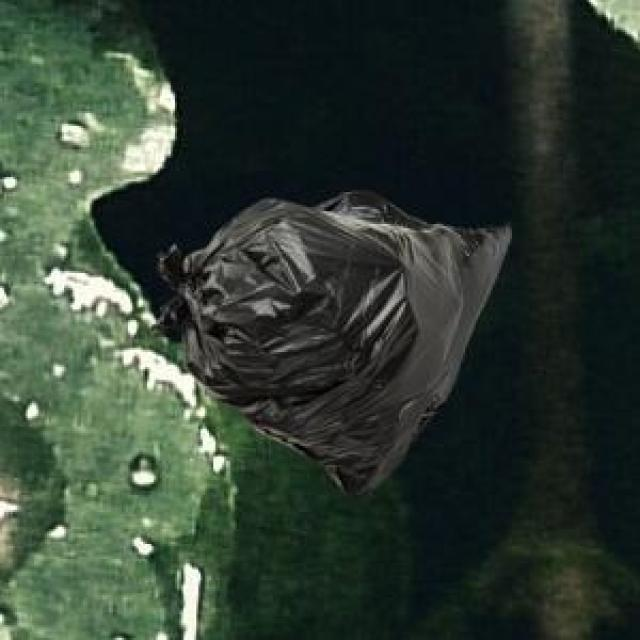Vinyl: (160, 191, 510, 492)
